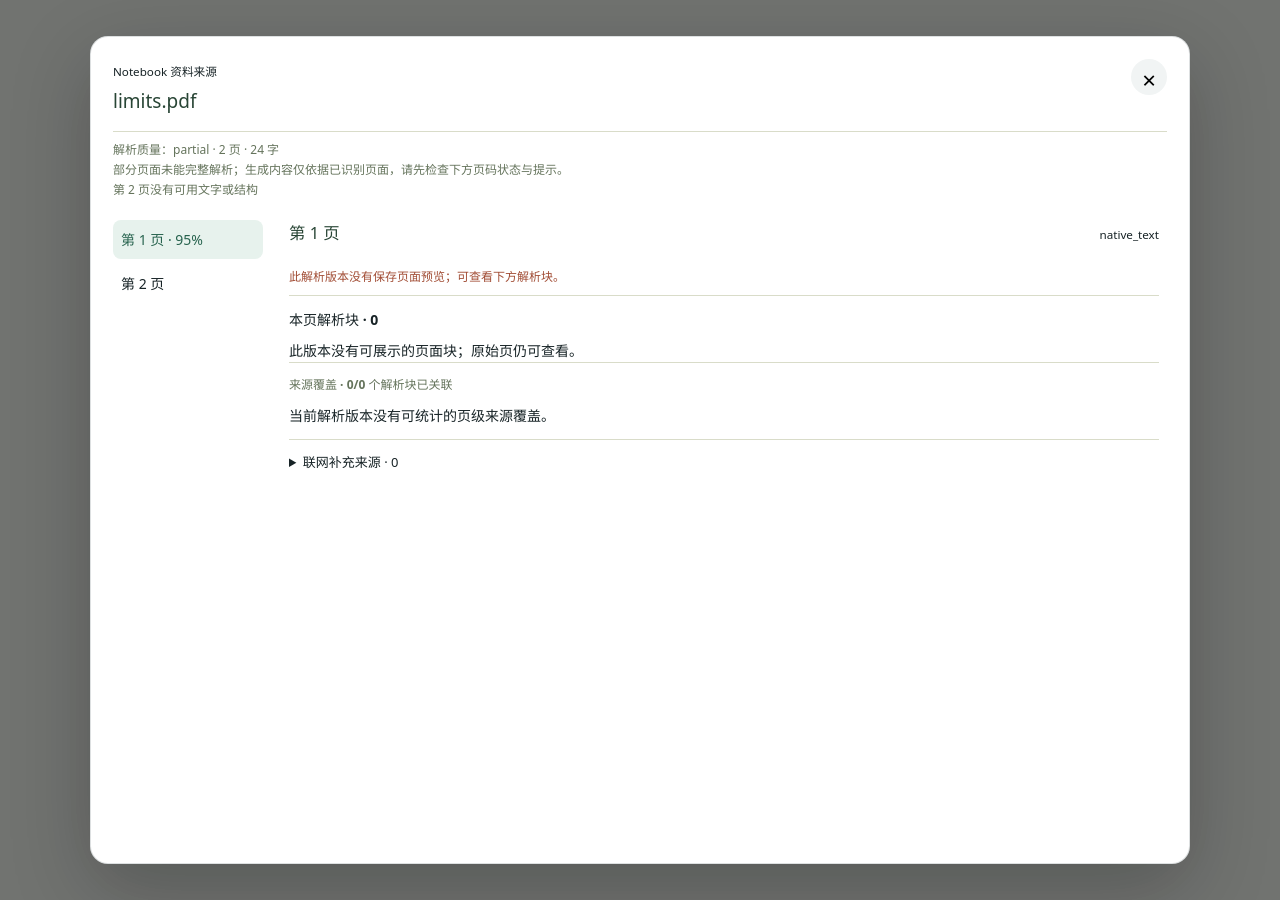
Test: shows partial parse warnings and generation limits to the user
Expected: the text "部分页面未能完整解析；生成内容仅依据已识别页面，请先检查下方页码状态与提示。" is shown, top-left (113, 161), bottom-right (569, 178)
Expected: the text "第 2 页没有可用文字或结构" is shown, top-left (113, 181), bottom-right (258, 198)
Click the button "第 2 页" at (188, 283), box top-left (113, 264), bottom-right (263, 303)
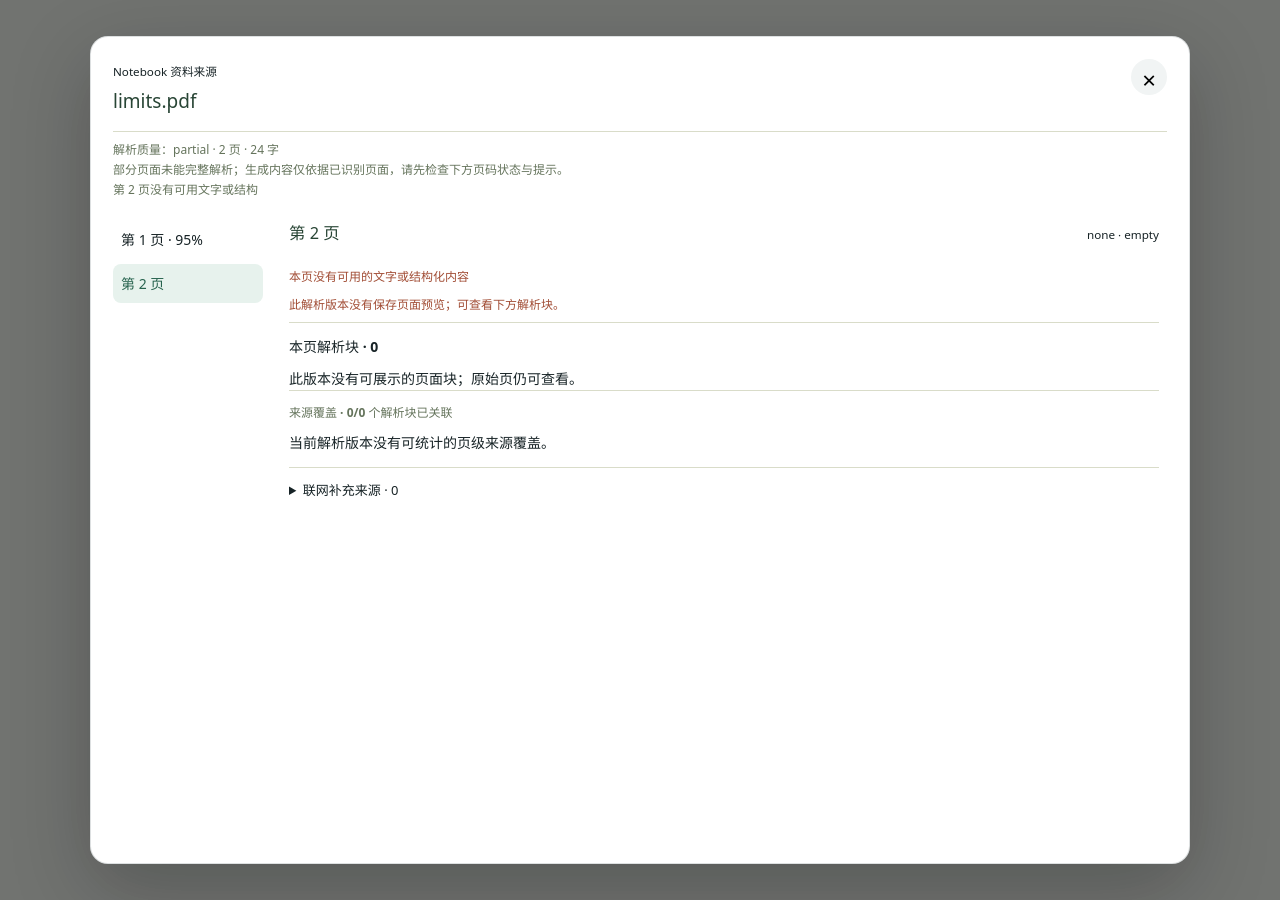
Expected: the text "本页没有可用的文字或结构化内容" is shown, top-left (289, 268), bottom-right (469, 285)
